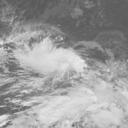cyclone: (9, 31, 100, 117)
